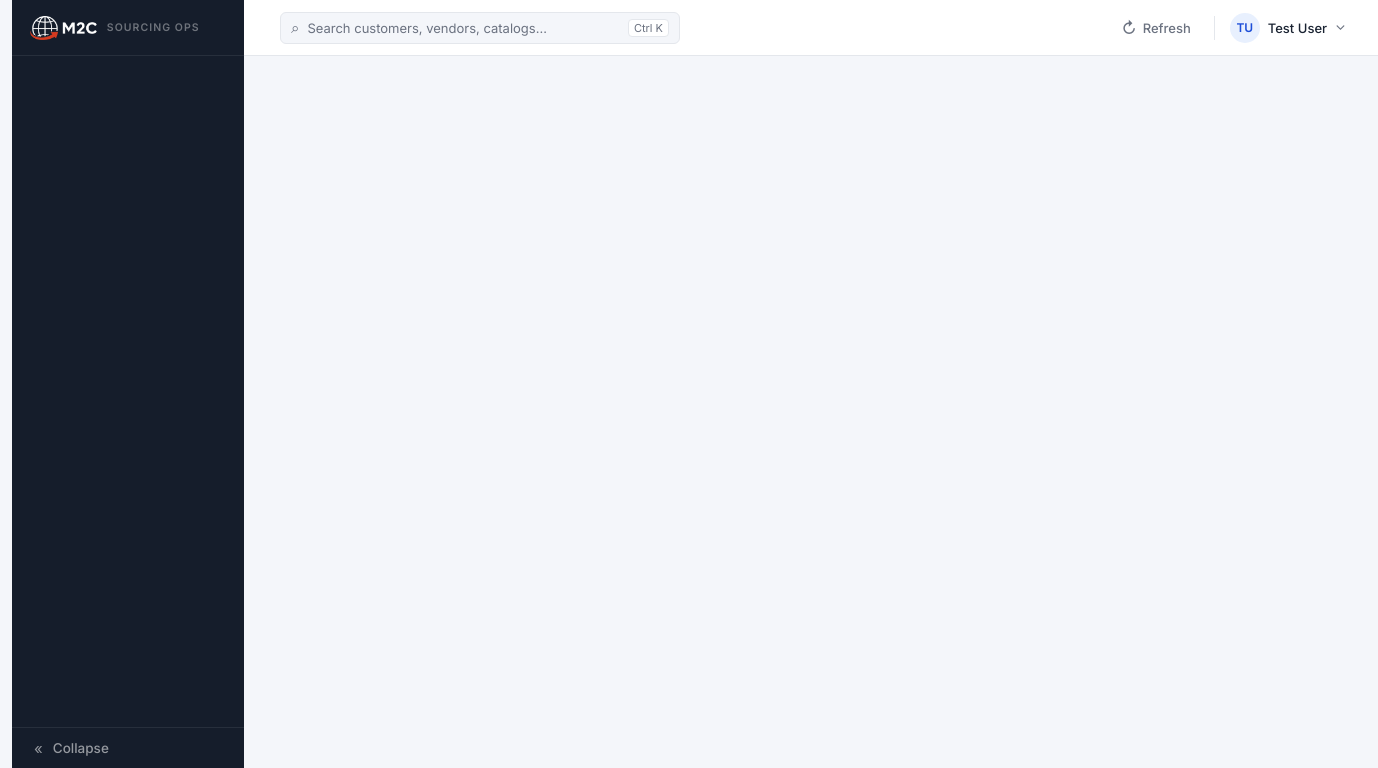
Test: ShellComponent › keeps the log out control regardless of the password permission
The width and height of the screenshot is (1378, 768).
Click the button with class "topbar__user-btn" at coordinates (1290, 28), box [1227,10,1354,46]
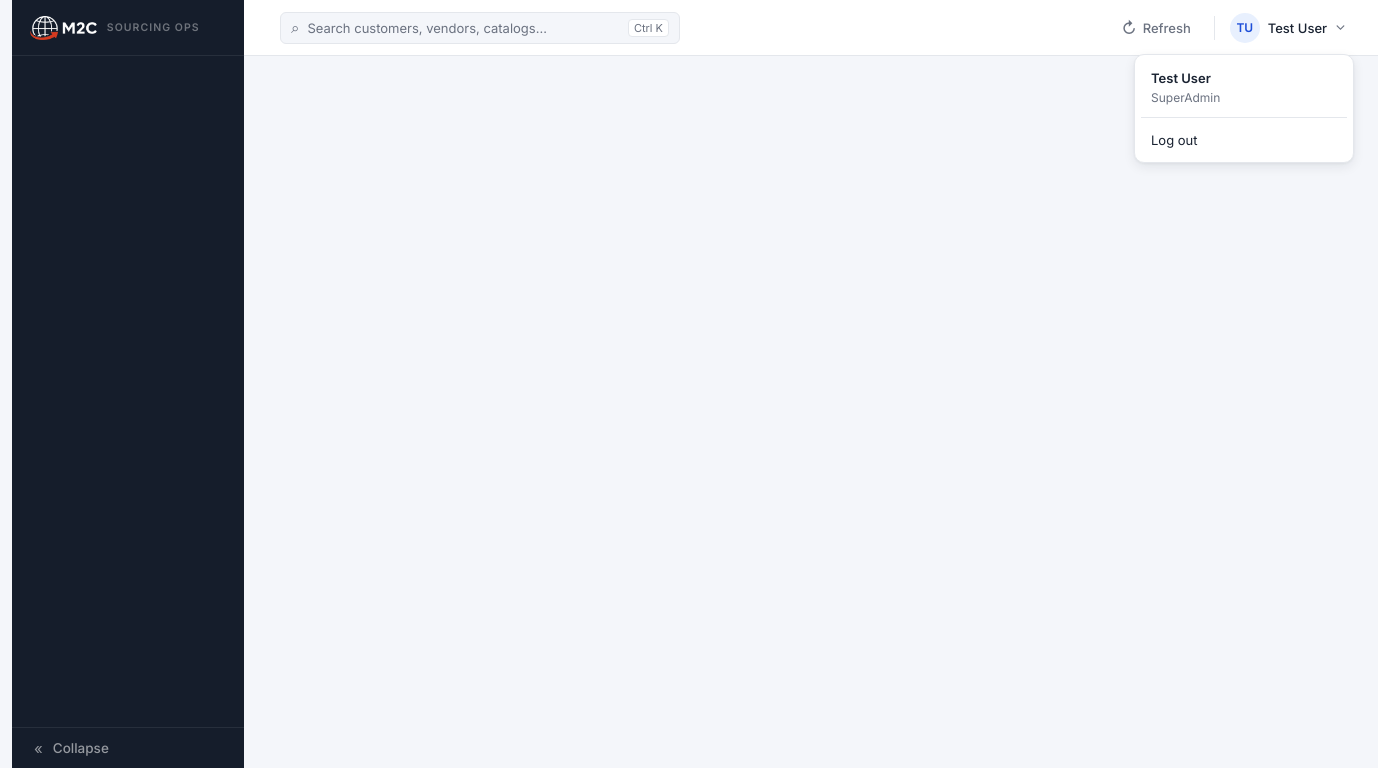
Expected: the menu item with class "topbar__logout" is shown, [1141,124,1347,156]
